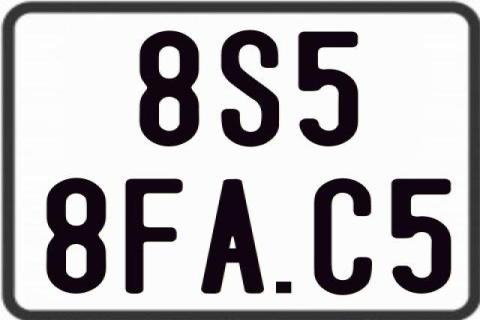0: (136, 29, 201, 149), (46, 176, 108, 296), (296, 29, 358, 148), (388, 177, 452, 292)
A: (201, 178, 266, 296)
C: (312, 179, 375, 295)
F: (125, 177, 187, 292)
S: (221, 28, 282, 147)
